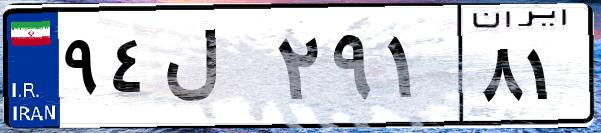1: (385, 28, 445, 110), (525, 38, 570, 115)
2: (270, 28, 330, 110)
4: (110, 28, 158, 98)
8: (475, 38, 525, 113)
9: (330, 28, 385, 110), (57, 26, 110, 100)
ل: (158, 20, 270, 120)
